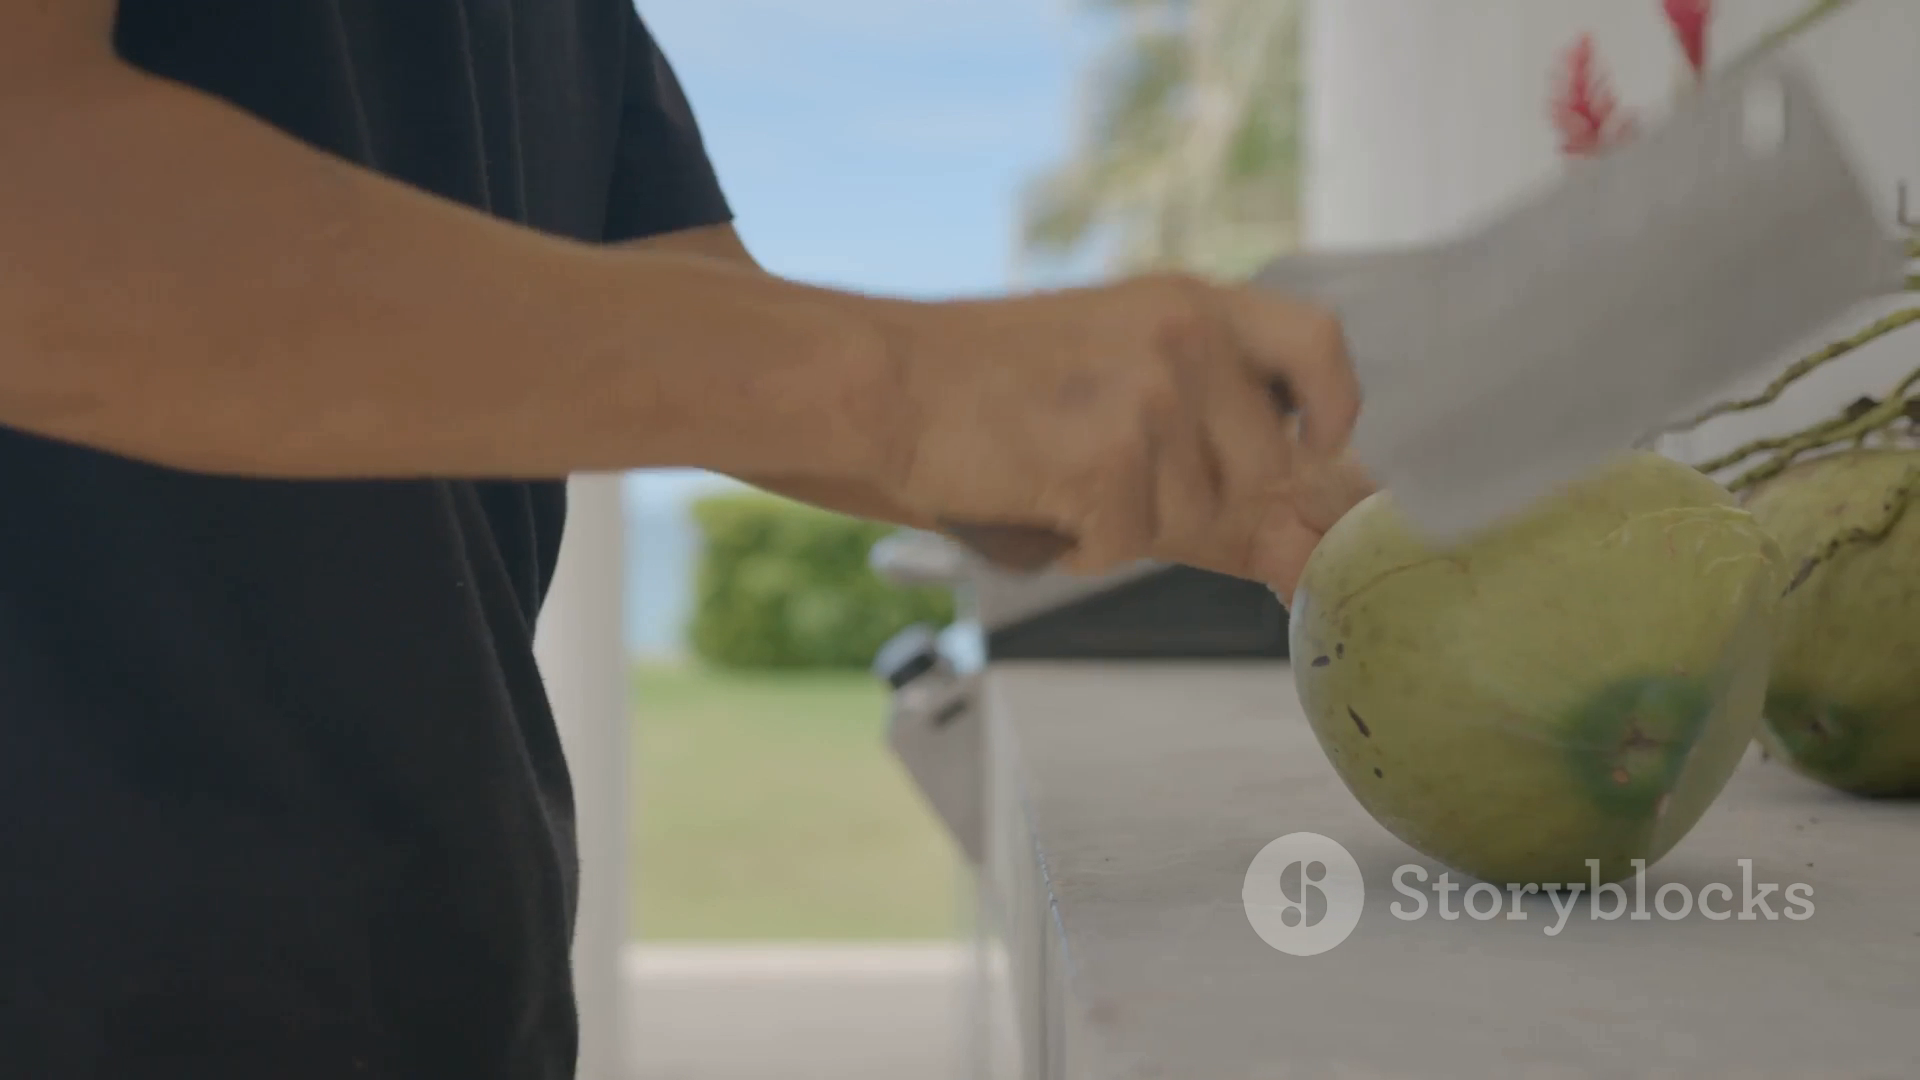cortante: (1323, 46, 1920, 547)
